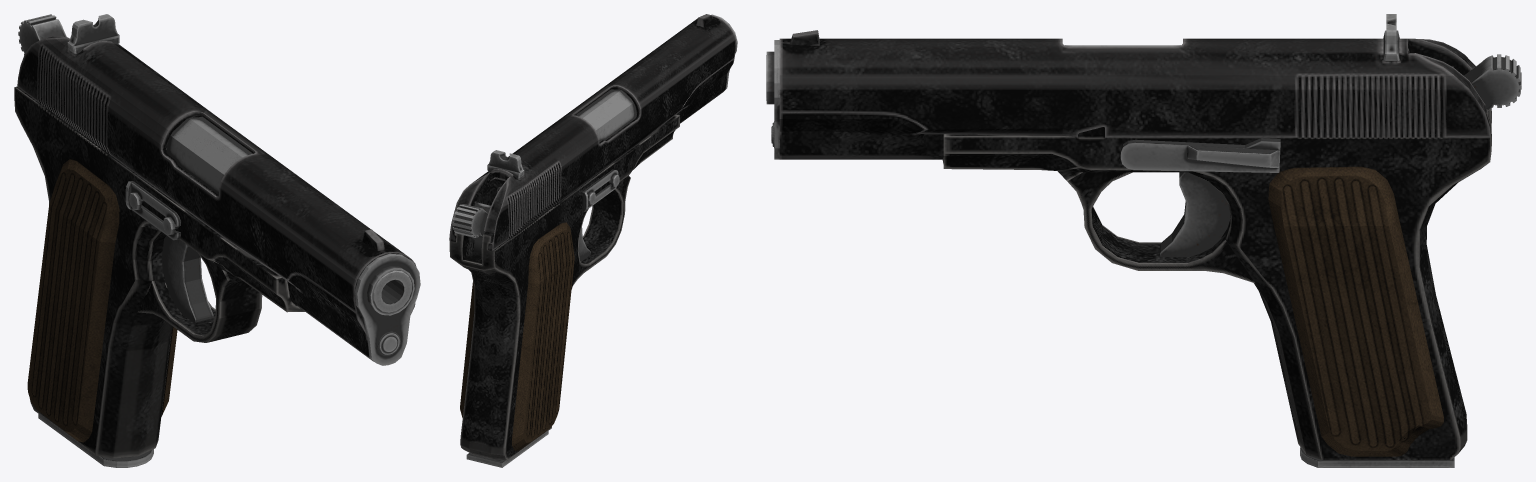
File: 54式手枪.FBX
3 views of the same model, side by side, from view 1: azimuth 30°, elevation 25°; view 2: azimuth 150°, elevation 25°; view 3: azimuth 270°, elevation 25° (orthographic). The views are drawn at different scales.
Visible parts, largest first — view 1: 54式手枪; view 2: 54式手枪; view 3: 54式手枪.
Boxes of the visible parts, box(x1,y1,x2,y2) form: 54式手枪: box(14, 14, 420, 467); 54式手枪: box(449, 14, 737, 467); 54式手枪: box(766, 14, 1521, 467).
Bounding box in the file's own units: 0.0351 × 0.1483 × 0.2345.
